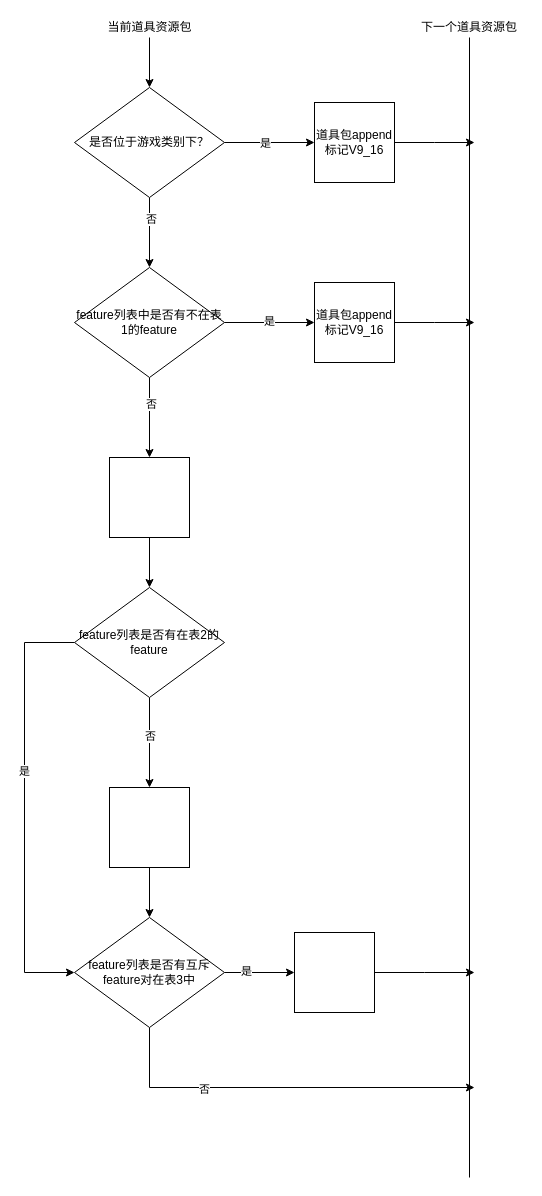
This 542x1196 diagram has some shape labels left out. Each missing label, with the centre of its shape:
道具包append标记H16_9, H1_1: the point at 149,827
道具包append标记V9_16, V1_1, V16_9: the point at 149,497
道具包clear 所有标记，并append V9_16: the point at 334,972
